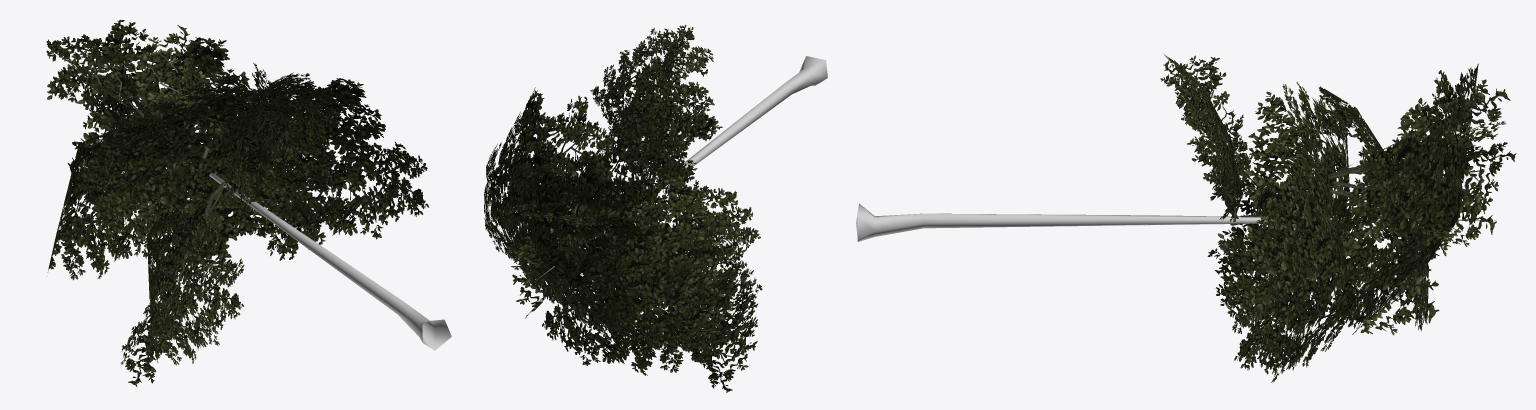
Rendered from MEP_Tree_02_e.fbx.
The picture shows the model from 3 angles, left to right: view 1: azimuth 30°, elevation 25°; view 2: azimuth 150°, elevation 25°; view 3: azimuth 270°, elevation 25°; orthographic projection. The views are drawn at different scales.
Parts seen in each view (by area): view 1: MEP_Leafs_02_e, MEP_TreeBark_01_e; view 2: MEP_Leafs_02_e, MEP_TreeBark_01_e; view 3: MEP_Leafs_02_e, MEP_TreeBark_01_e.
Boxes of the visible parts, box(x1,y1,x2,y2) form: MEP_Leafs_02_e: box(46, 19, 429, 386); MEP_TreeBark_01_e: box(167, 144, 451, 350); MEP_Leafs_02_e: box(484, 24, 762, 392); MEP_TreeBark_01_e: box(536, 56, 827, 280); MEP_Leafs_02_e: box(1160, 54, 1516, 382); MEP_TreeBark_01_e: box(856, 203, 1496, 241).
Bounding box in the file's own units: 20.52 × 20.93 × 34.14.
